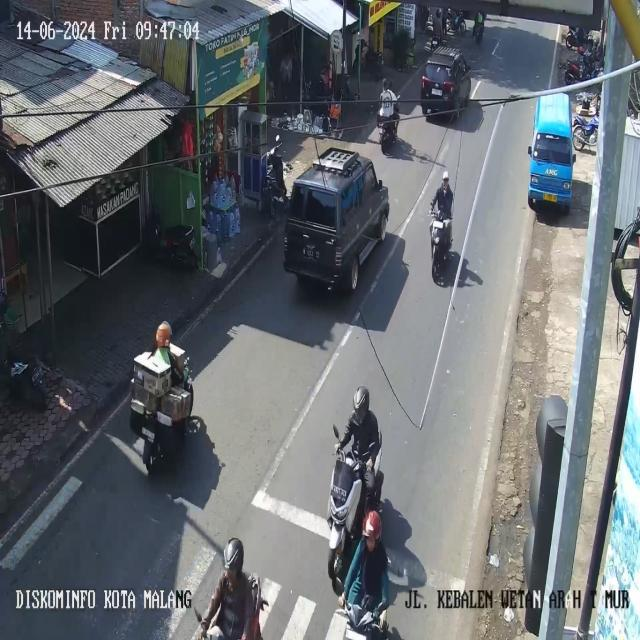Helmet: (223, 538, 243, 573), (353, 386, 369, 422), (363, 510, 381, 539), (382, 78, 390, 90), (442, 171, 449, 181)
Number Plate: (345, 629, 365, 639), (303, 245, 318, 258), (142, 428, 154, 441), (543, 193, 556, 202), (433, 220, 443, 228), (431, 88, 442, 95)
Rearview Mirror: (333, 424, 338, 438), (275, 134, 280, 143), (527, 146, 531, 155), (572, 153, 576, 162), (378, 180, 382, 188)
